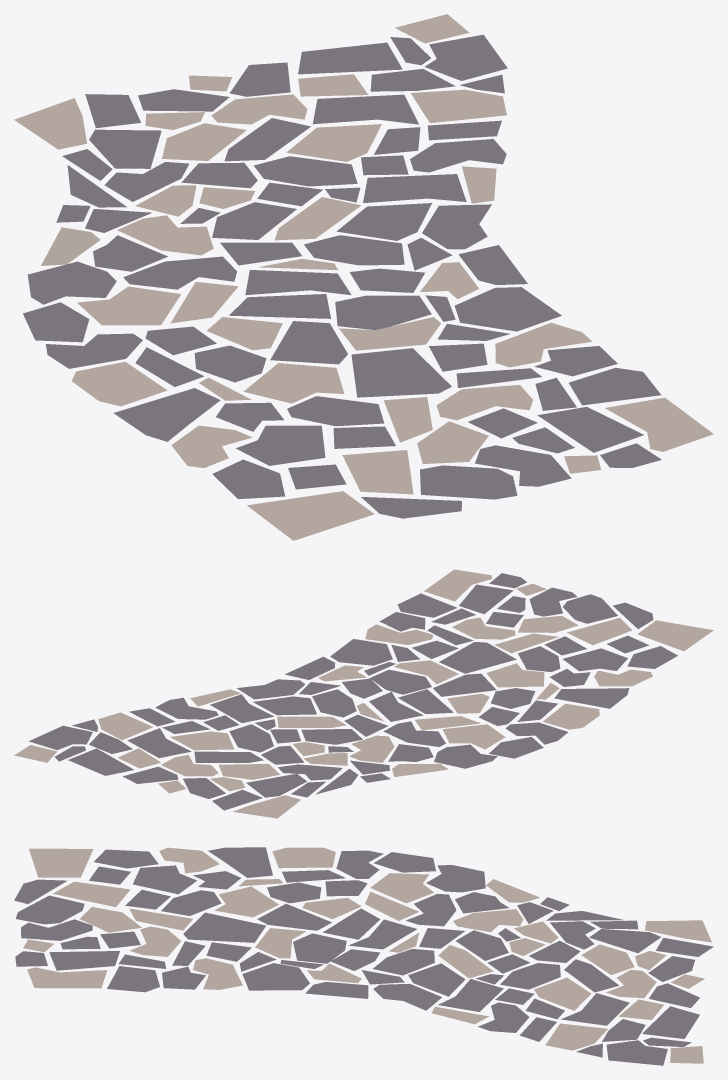
The model's file is road_smooth.fbx.
The picture shows the model from 3 angles, top to bottom: view 1: azimuth 30°, elevation 25°; view 2: azimuth 150°, elevation 25°; view 3: azimuth 270°, elevation 25°; orthographic projection. The views are drawn at different scales.
Parts seen in each view (by area): view 1: road_smooth; view 2: road_smooth; view 3: road_smooth.
Part boxes in pixels (x1=…): road_smooth: x1=14, y1=14, x2=713, y2=540; road_smooth: x1=14, y1=569, x2=713, y2=818; road_smooth: x1=14, y1=847, x2=713, y2=1065.
Size of the model in its own units: 302 by 1.21 by 408.
